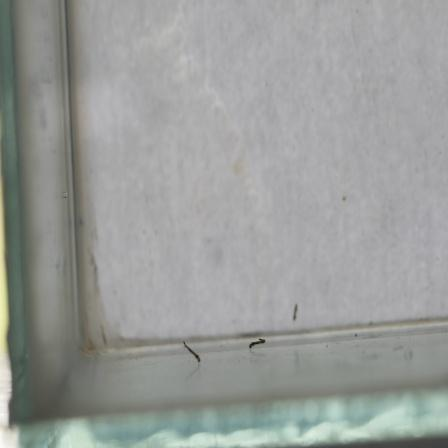Jentik-Nyamuk: (178, 336, 203, 367), (244, 333, 271, 354)
